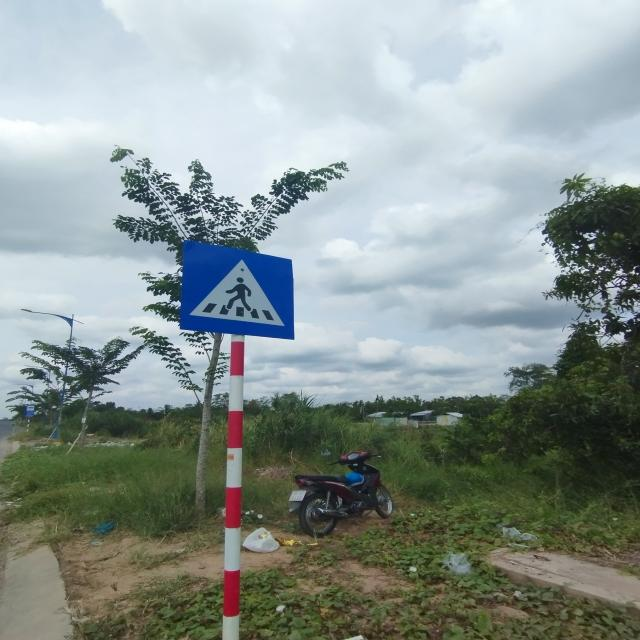Giao_Nhau_Duong_Uu_Tien: (180, 240, 296, 339)
